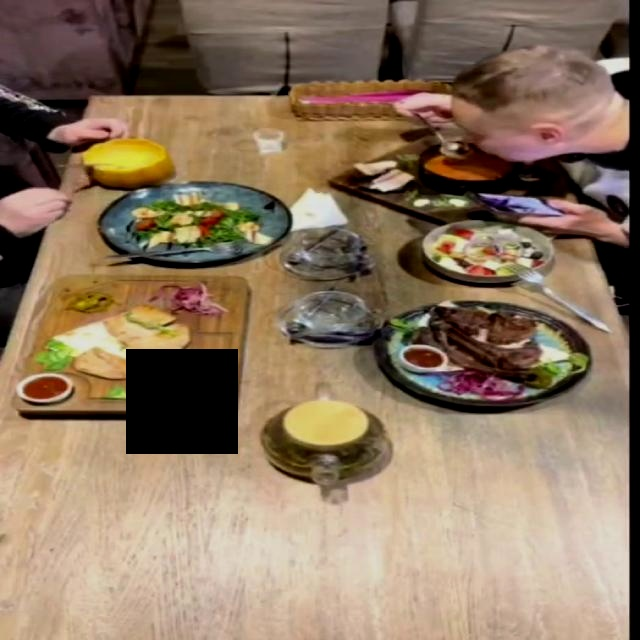meat: (7, 272, 257, 429), (375, 299, 593, 407)
salad: (96, 182, 289, 265), (420, 219, 555, 283)
soup: (320, 152, 539, 209), (80, 136, 173, 187)
tea: (242, 383, 407, 493)
